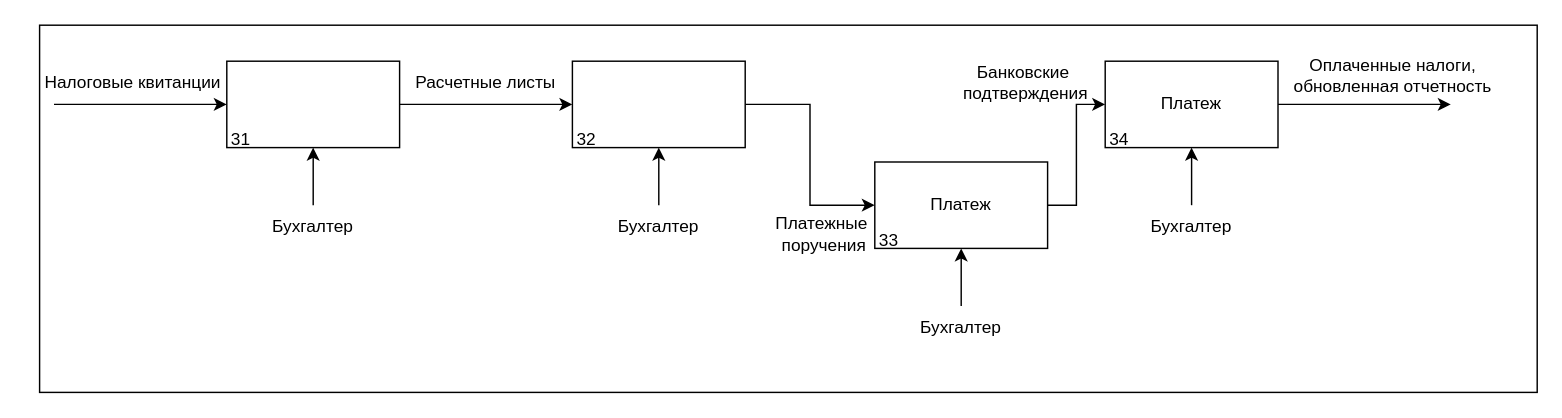
The diagram is 1562 pixels wide and 418 high, and some of its shapes have lost their labels. The box of each missing label's shape, as (x1, y1, x2, y2) in pixels:
Подготовка документов: (571, 60, 745, 148)
Расчет налоговых обязательств: (225, 60, 400, 148)
